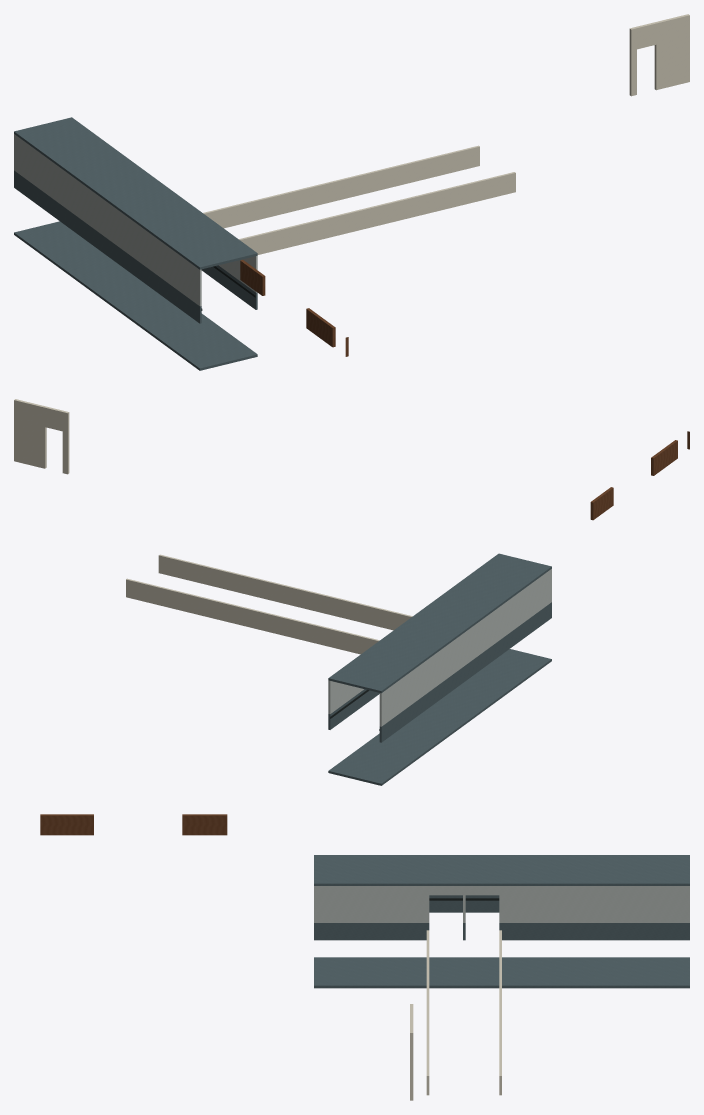
Rendered from D04_BOUNDED_PHYSICAL_CUTS_r001.glb.
3 views of the same model, one above another, from view 1: azimuth 30°, elevation 25°; view 2: azimuth 150°, elevation 25°; view 3: azimuth 270°, elevation 25° (orthographic). The views are drawn at different scales.
Parts seen in each view (by area): view 1: D04PC_Successor_HOME_BATCH_007_ASTRAEA_staff_bluegrey_paint, D04PC_Successor_HOME_BATCH_174_ASTRAEA_staff_white_paint, D04PC_Successor_D04SA_ServiceLaneScreen_2, D04PC_Successor_D04SA_ServiceLaneScreen_0, D04PC_Successor_D04HC3_east_End_0, D04PC_Successor_D04H928_GardenDado, D04PC_Successor_D04H952_GardenDado; view 2: D04PC_Successor_HOME_BATCH_007_ASTRAEA_staff_bluegrey_paint, D04PC_Successor_HOME_BATCH_174_ASTRAEA_staff_white_paint, D04PC_Successor_D04SA_ServiceLaneScreen_2, D04PC_Successor_D04SA_ServiceLaneScreen_0, D04PC_Successor_D04HC3_east_End_0, D04PC_Successor_D04H928_GardenDado; view 3: D04PC_Successor_HOME_BATCH_007_ASTRAEA_staff_bluegrey_paint, D04PC_Successor_HOME_BATCH_174_ASTRAEA_staff_white_paint, D04PC_Successor_D04H928_GardenDado, D04PC_Successor_D04H952_GardenDado, D04PC_Successor_D04SA_ServiceLaneScreen_2, D04PC_Successor_D04SA_ServiceLaneScreen_0.
Part boxes in pixels (bbox=[...]): D04PC_Successor_HOME_BATCH_007_ASTRAEA_staff_bluegrey_paint: bbox=[14, 117, 257, 370]; D04PC_Successor_HOME_BATCH_174_ASTRAEA_staff_white_paint: bbox=[14, 134, 257, 306]; D04PC_Successor_D04SA_ServiceLaneScreen_2: bbox=[239, 172, 515, 254]; D04PC_Successor_D04SA_ServiceLaneScreen_0: bbox=[203, 145, 479, 228]; D04PC_Successor_D04HC3_east_End_0: bbox=[629, 14, 689, 96]; D04PC_Successor_D04H928_GardenDado: bbox=[306, 308, 348, 356]; D04PC_Successor_D04H952_GardenDado: bbox=[240, 260, 265, 295]; D04PC_Successor_HOME_BATCH_007_ASTRAEA_staff_bluegrey_paint: bbox=[328, 553, 551, 785]; D04PC_Successor_HOME_BATCH_174_ASTRAEA_staff_white_paint: bbox=[328, 569, 551, 726]; D04PC_Successor_D04SA_ServiceLaneScreen_2: bbox=[158, 554, 412, 630]; D04PC_Successor_D04SA_ServiceLaneScreen_0: bbox=[126, 578, 379, 654]; D04PC_Successor_D04HC3_east_End_0: bbox=[14, 399, 69, 474]; D04PC_Successor_D04H928_GardenDado: bbox=[651, 431, 689, 475]; D04PC_Successor_HOME_BATCH_007_ASTRAEA_staff_bluegrey_paint: bbox=[314, 855, 689, 988]; D04PC_Successor_HOME_BATCH_174_ASTRAEA_staff_white_paint: bbox=[314, 886, 689, 922]; D04PC_Successor_D04H928_GardenDado: bbox=[40, 814, 93, 835]; D04PC_Successor_D04H952_GardenDado: bbox=[182, 814, 227, 835]; D04PC_Successor_D04SA_ServiceLaneScreen_2: bbox=[426, 930, 429, 1095]; D04PC_Successor_D04SA_ServiceLaneScreen_0: bbox=[499, 930, 501, 1095].
Size of the model in its own units: 33.55 by 11.26 by 35.95.
Materials: 7 (7 with a texture image).
